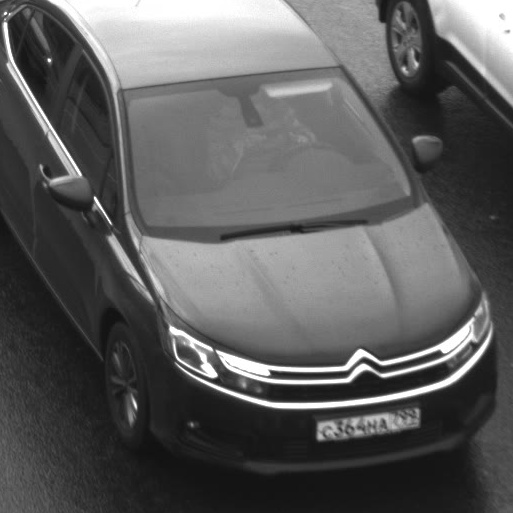plate: (302, 395, 428, 449)
